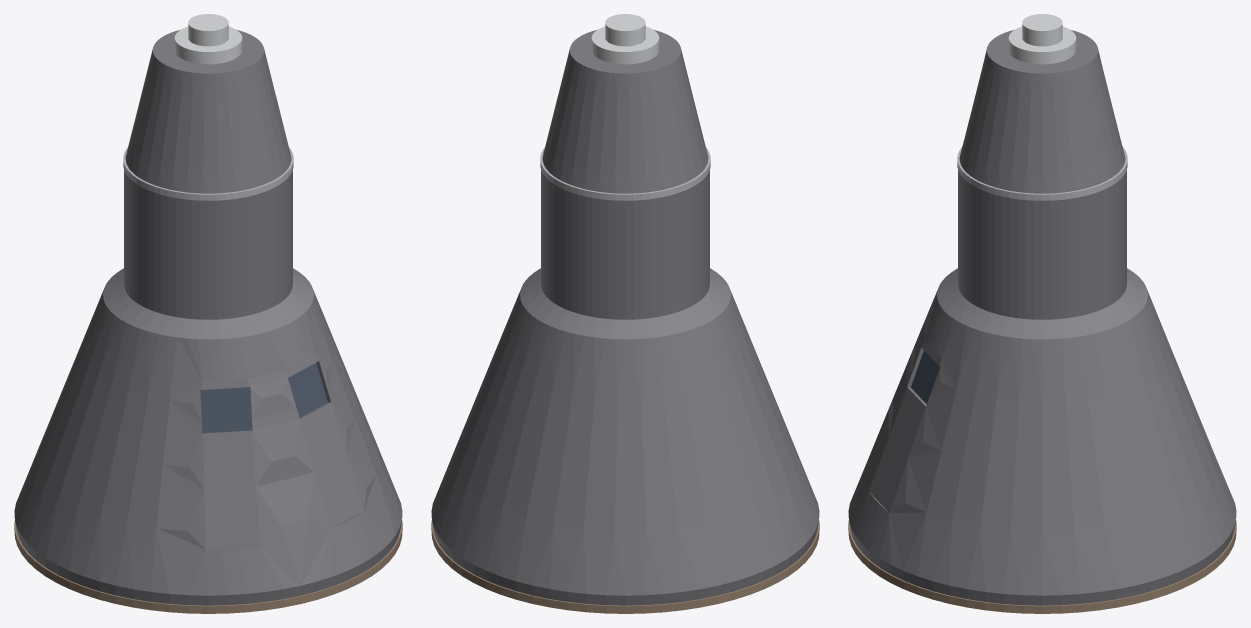
Rendered from cmd03_gemini_capsule.glb.
3 renders of one model, left to right at view 1: azimuth 30°, elevation 25°; view 2: azimuth 150°, elevation 25°; view 3: azimuth 270°, elevation 25°, orthographic.
Parts seen in each view (by area): view 1: cabin_hull, heat_shield, windows, docking_nose, rr_section_ring; view 2: cabin_hull, heat_shield, docking_nose, rr_section_ring; view 3: cabin_hull, heat_shield, docking_nose, rr_section_ring, windows.
Boxes of the visible parts, bbox=[...] form: cabin_hull: bbox=[14, 30, 402, 605]; heat_shield: bbox=[14, 520, 402, 613]; windows: bbox=[200, 363, 327, 433]; docking_nose: bbox=[174, 14, 242, 64]; rr_section_ring: bbox=[123, 147, 293, 200]; cabin_hull: bbox=[431, 30, 819, 605]; heat_shield: bbox=[431, 520, 819, 613]; docking_nose: bbox=[591, 14, 659, 64]; rr_section_ring: bbox=[540, 147, 710, 200]; cabin_hull: bbox=[848, 30, 1236, 605]; heat_shield: bbox=[848, 520, 1236, 613]; docking_nose: bbox=[1008, 14, 1076, 64]; rr_section_ring: bbox=[957, 147, 1127, 200]; windows: bbox=[911, 351, 940, 403].
Size of the model in its own units: 2.3 by 3.58 by 2.3.
